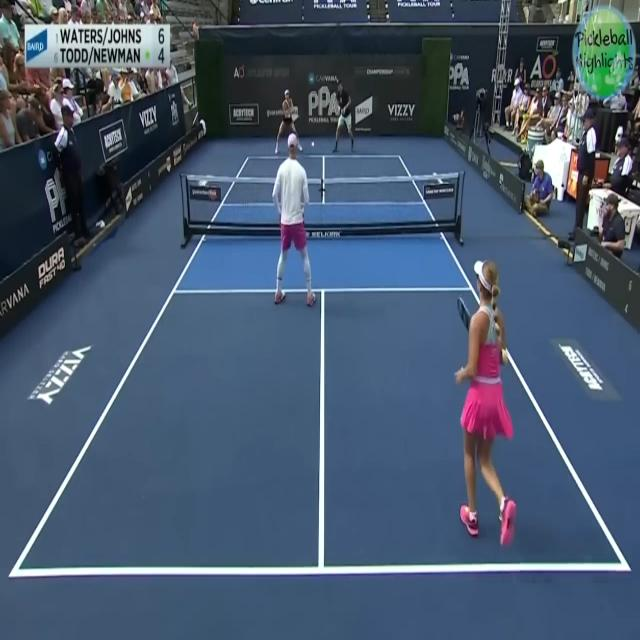Pickleball: (311, 140, 315, 150)
